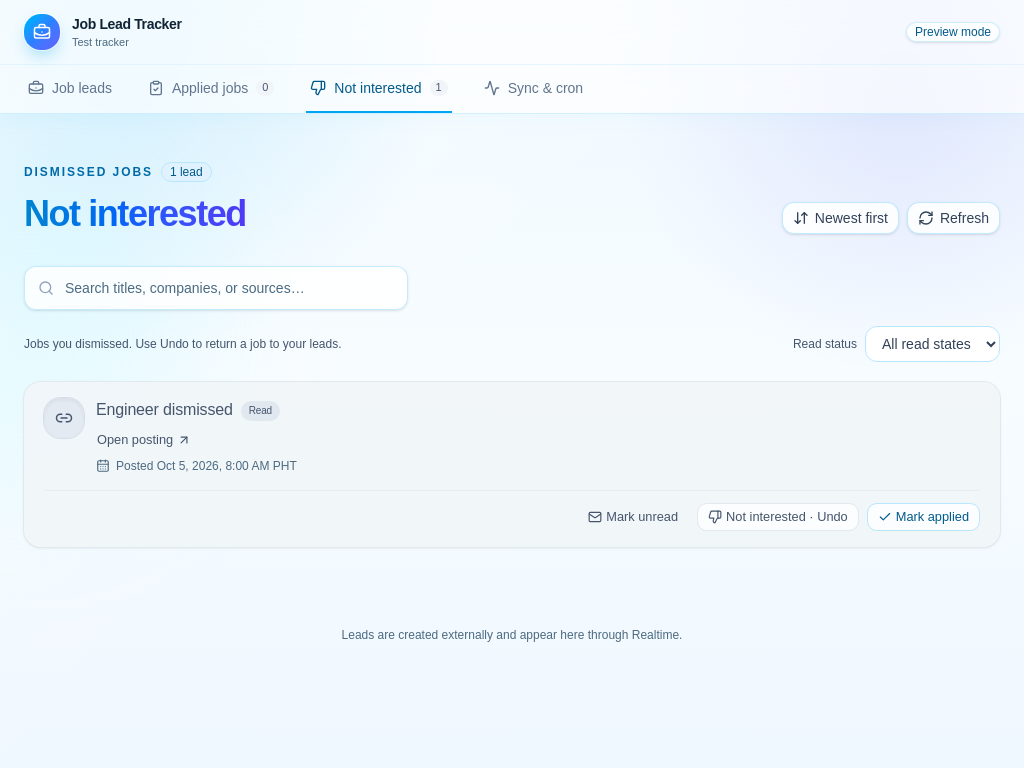
Test: DashboardView job tracking › supports direct Not interested links and moves a dismissed job to Applied
Expected: the heading "Not interested" is shown, [24, 194, 246, 234]
Click the button with aria-label "Mark Engineer dismissed as applied" at (923, 517), box [867, 503, 980, 531]
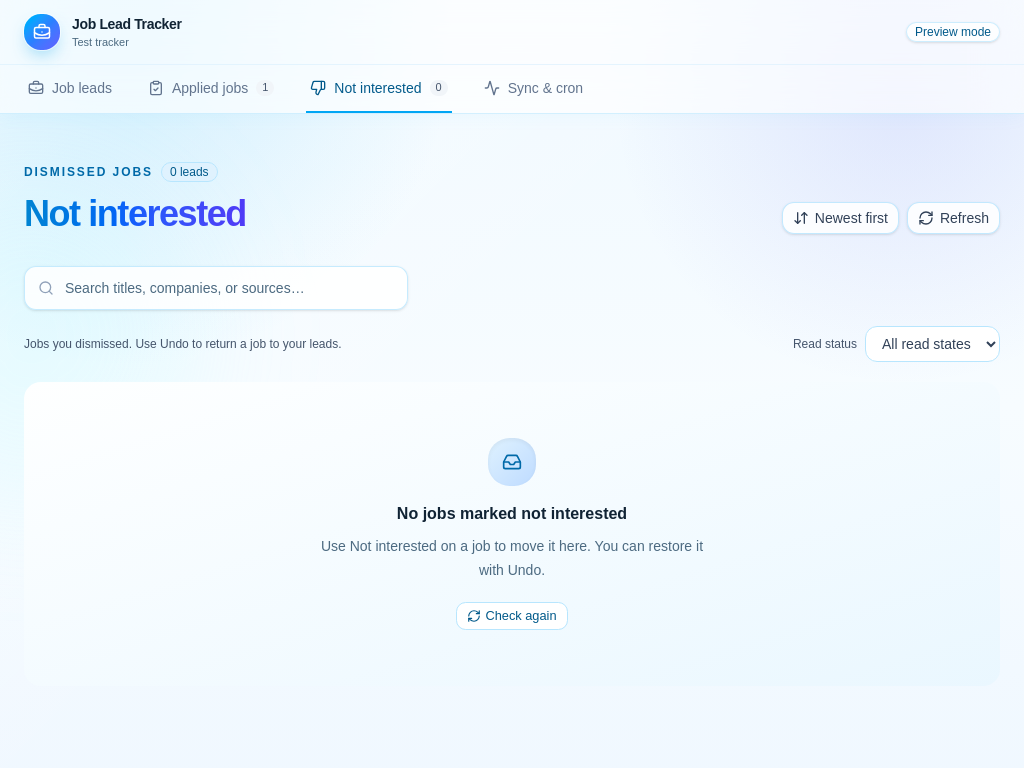
Expected: the heading "No jobs marked not interested" is shown, [397, 502, 627, 526]
Click the link "Applied jobs 1" at (211, 88), box [148, 80, 274, 96]
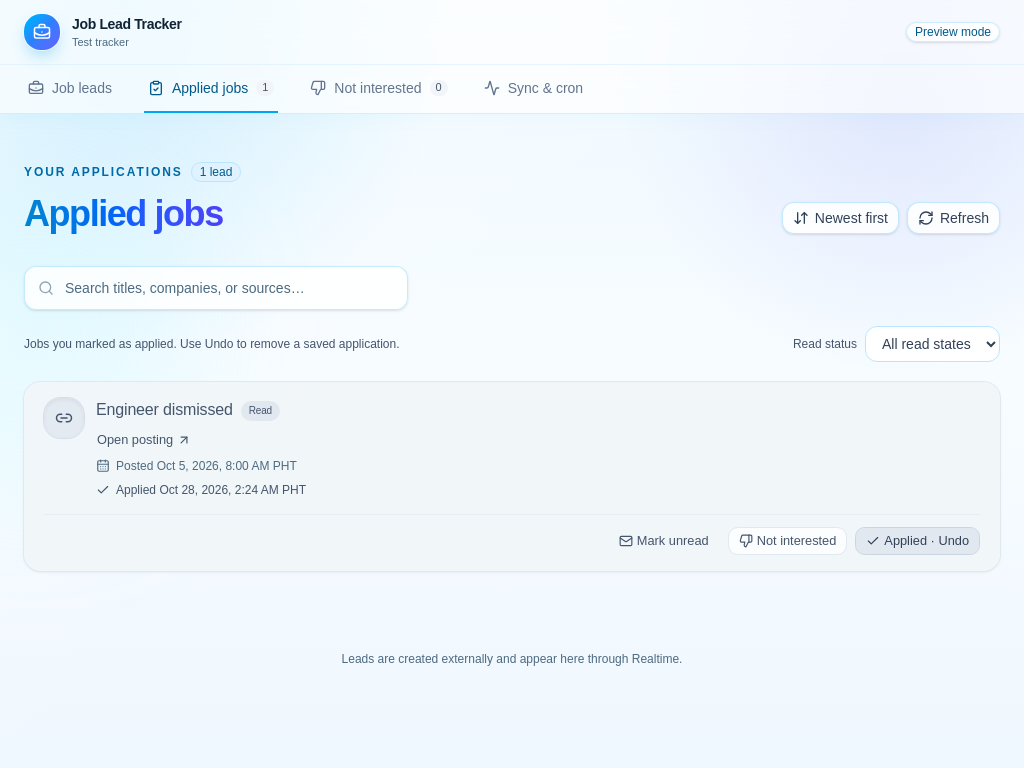
Expected: the element "Engineer dismissed" is shown, [24, 382, 1000, 571]
